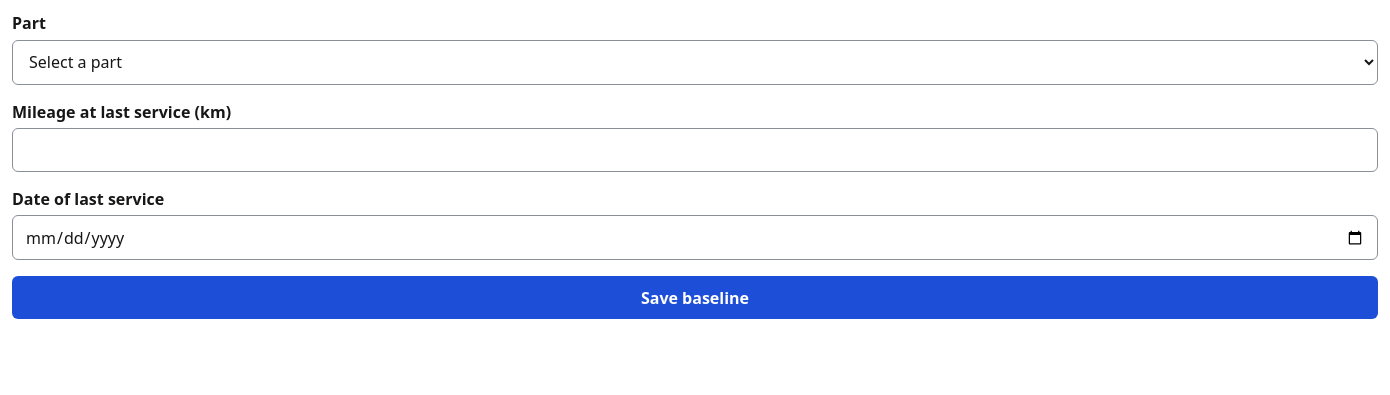
Scenario: BaselineForm › VEH-06 puts the baseline for the chosen part, with the mileage as a number, and confirms it
The image size is (1390, 395).
Select "Engine oil" in the dropdown labelled "Part" at (695, 62), box left=12, top=40, right=1378, bottom=85
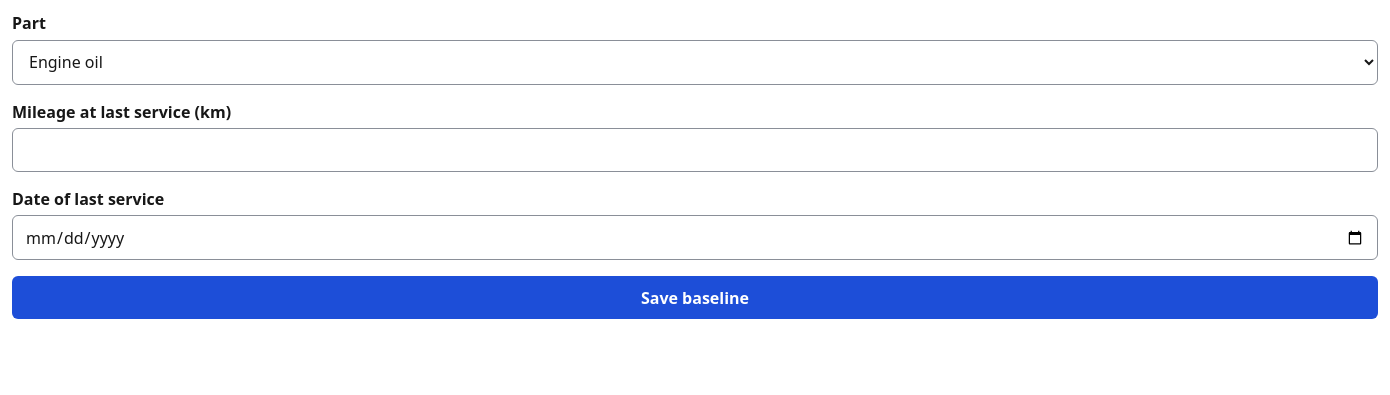
Type "42000" into the field labelled "Mileage at last service (km)".
click(695, 150); type("42000")  # box left=12, top=128, right=1378, bottom=172
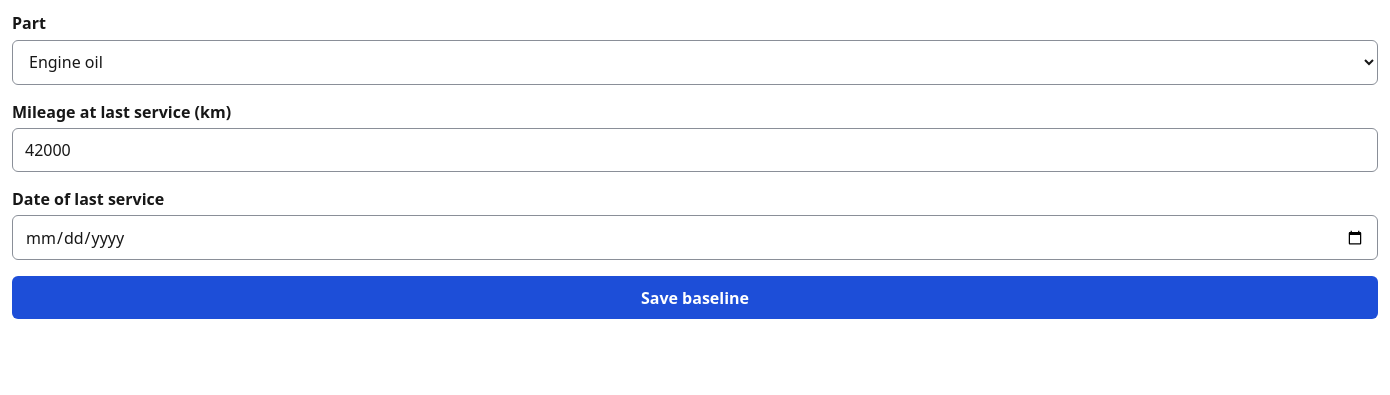
Type "2026-09-01" into the date field labelled "Date of last service".
click(695, 238); type("2026-09-01")  # box left=12, top=215, right=1378, bottom=260
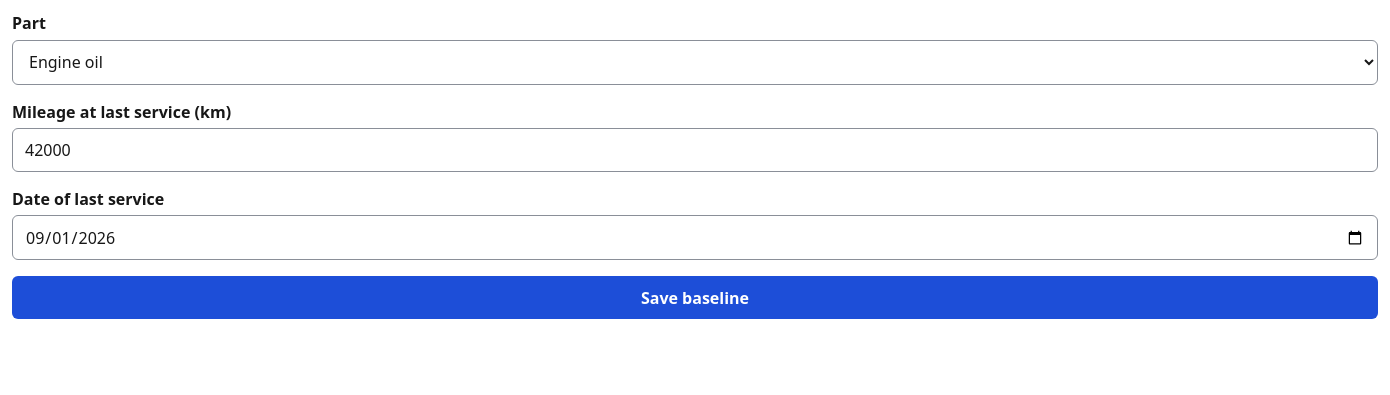
Click the button "Save baseline".
click(695, 298)  # box left=12, top=276, right=1378, bottom=319
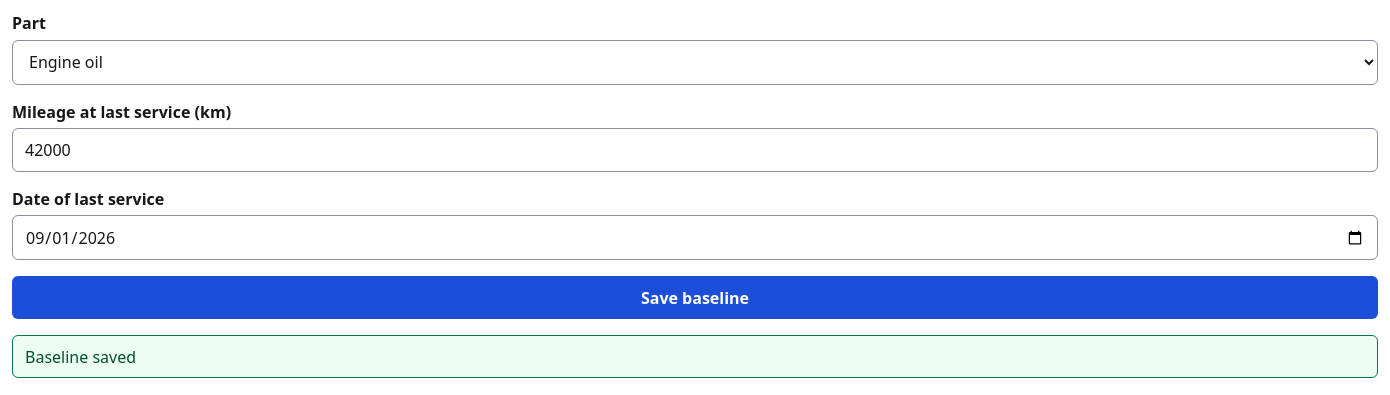
Expected: the message reads "Baseline saved", left=25, top=346, right=136, bottom=368
